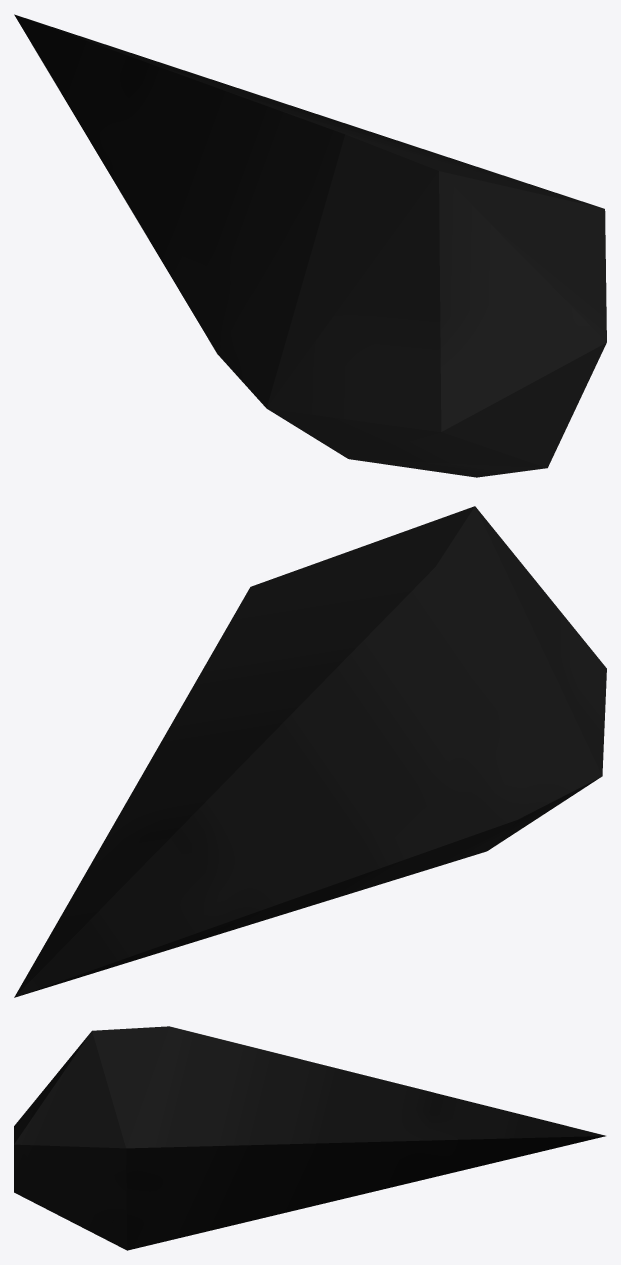
The picture shows the model from 3 angles, top to bottom: view 1: azimuth 30°, elevation 25°; view 2: azimuth 150°, elevation 25°; view 3: azimuth 270°, elevation 25°; orthographic projection. The views are drawn at different scales.
Bounding box in the file's own units: 0.8597 × 0.8212 × 2.2.
1 material, 1 textured.
